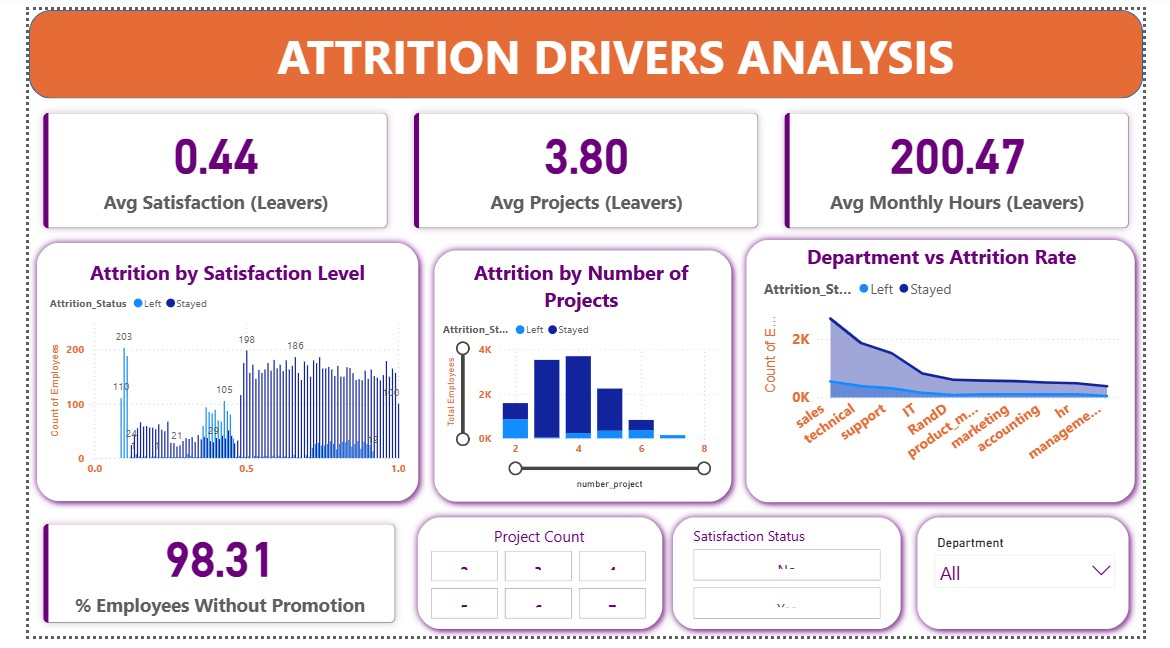

The page's visual inventory and layout, read from the dashboard file:
{"tool":"powerbi","page":{"name":"ATTRITION DRIVERS","canvas":[1280,720],"ordinal":1},"visuals":[{"type":"shape","box":[0,0,1280.4,101.8],"z":0},{"type":"textbox","box":[206.8,11.1,935.3,90.7],"z":1000},{"type":"cardVisual","fields":{"Data":["HR_cleaned.Avg Satisfaction (Leavers)","Avg(HR_cleaned.number_project)","Avg(HR_cleaned.average_montly_hours)"]},"box":[0,101.8,1280.4,165.4],"z":2000},{"type":"shape","box":[816,254.5,464.5,319.7],"z":3000},{"type":"areaChart","title":"Department vs Attrition Rate","fields":{"Category":["HR_cleaned.Department"],"Y":["HR_cleaned.Total Employees"],"Series":["HR_cleaned.Attrition_Status"]},"box":[839.8,267.2,418.3,287.9],"z":4000},{"type":"shape","box":[0,259.3,456.5,314.9],"z":5000},{"type":"clusteredColumnChart","title":"Attrition by Satisfaction Level","fields":{"Category":["HR_cleaned.satisfaction_level"],"Y":["HR_cleaned.Total Employees"],"Series":["HR_cleaned.Attrition_Status"]},"box":[19.1,286.3,418.3,268.8],"z":6000},{"type":"shape","box":[456.5,267.2,359.5,307],"z":7000},{"type":"columnChart","title":"Attrition by Number of Projects","fields":{"Y":["HR_cleaned.Total Employees"],"Category":["HR_cleaned.number_project"],"Series":["HR_cleaned.Attrition_Status"]},"box":[470.8,286.3,327.7,268.8],"z":8000},{"type":"shape","box":[1011.6,574.2,260.9,146.3],"z":9000},{"type":"slicer","fields":{"Values":["HR_cleaned.Department"]},"box":[1030.7,598.1,227.5,100.2],"z":10000},{"type":"shape","box":[731.7,574.2,279.9,146.3],"z":11000},{"type":"advancedSlicerVisual","fields":{"Values":["HR_cleaned.Satisfaction_Flag"]},"box":[758.7,593.3,225.9,111.3],"z":12000},{"type":"shape","box":[437.4,574.2,299,146.3],"z":13000},{"type":"advancedSlicerVisual","title":"Project Count","fields":{"Values":["HR_cleaned.number_project"]},"box":[456.5,593.3,259.3,111.3],"z":14000},{"type":"cardVisual","fields":{"Data":["HR_cleaned.No Promotion %"]},"box":[0,574.2,437.4,146.3],"z":15000}]}

Visuals, with their boxes in screenshot pixels (x1, y1, x2, y2), scaled from the page's 1280x720 canvas onto the 1170x648 screenshot:
shape: (x1=0, y1=0, x2=1169, y2=92)
textbox: (x1=189, y1=10, x2=1044, y2=92)
cardVisual - HR_cleaned.Avg Satisfaction (Leavers) x Avg(HR_cleaned.number_project): (x1=0, y1=92, x2=1169, y2=240)
shape: (x1=746, y1=229, x2=1169, y2=517)
"Department vs Attrition Rate" areaChart: (x1=768, y1=240, x2=1150, y2=500)
shape: (x1=0, y1=233, x2=417, y2=517)
"Attrition by Satisfaction Level" clusteredColumnChart: (x1=17, y1=258, x2=400, y2=500)
shape: (x1=417, y1=240, x2=746, y2=517)
"Attrition by Number of Projects" columnChart: (x1=430, y1=258, x2=730, y2=500)
shape: (x1=925, y1=517, x2=1163, y2=647)
slicer - HR_cleaned.Department: (x1=942, y1=538, x2=1150, y2=628)
shape: (x1=669, y1=517, x2=925, y2=647)
advancedSlicerVisual - HR_cleaned.Satisfaction_Flag: (x1=693, y1=534, x2=900, y2=634)
shape: (x1=400, y1=517, x2=673, y2=647)
"Project Count" advancedSlicerVisual: (x1=417, y1=534, x2=654, y2=634)
cardVisual - HR_cleaned.No Promotion %: (x1=0, y1=517, x2=400, y2=647)
